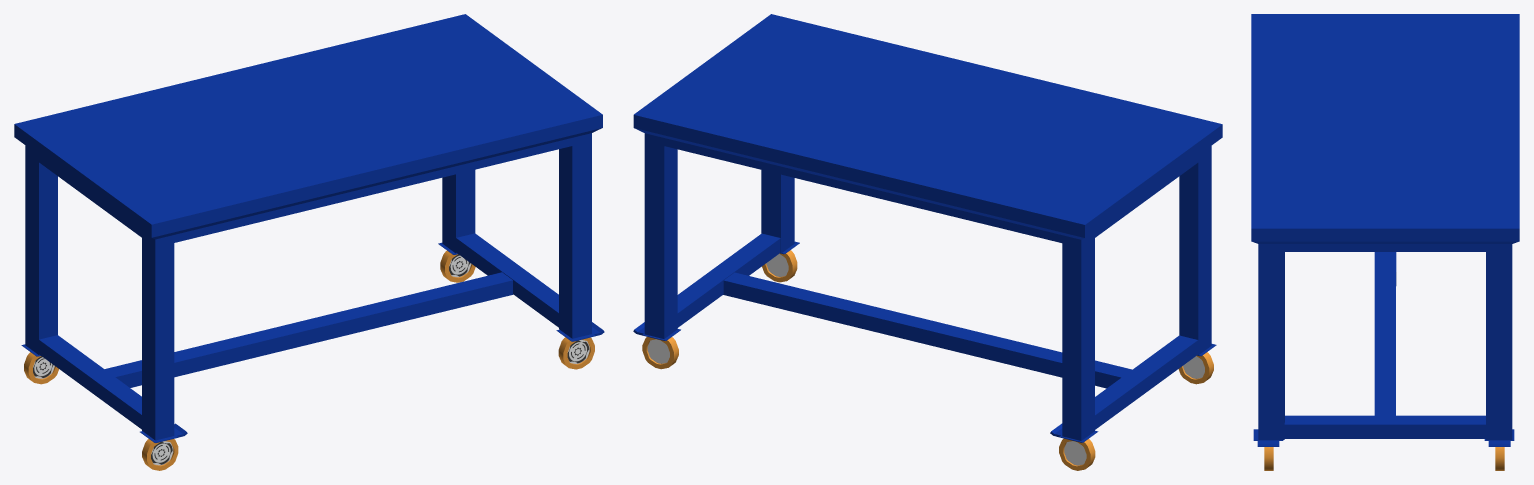
Rendered from Mesa laboratorio.fbx.
3 views of the same model, side by side, from view 1: azimuth 30°, elevation 25°; view 2: azimuth 150°, elevation 25°; view 3: azimuth 270°, elevation 25° (orthographic). The views are drawn at different scales.
Parts seen in each view (by area): view 1: Mesa, Barra Mitad, Lateral inferior Izq, Lateral Inferior Der, Cube.003, Cube, Cube.002, Cube.001; view 2: Mesa, Barra Mitad, Lateral inferior Izq, Lateral Inferior Der, Cube.001, Cube.002, Cube.003, Cube; view 3: Mesa, Lateral Inferior Der, Barra Mitad.
Boxes of the visible parts, left/top/right/bottom form: Mesa: left=14, top=14, right=602, bottom=440; Barra Mitad: left=105, top=272, right=512, bottom=387; Lateral inferior Izq: left=39, top=335, right=141, bottom=429; Lateral Inferior Der: left=456, top=233, right=558, bottom=327; Cube.003: left=558, top=337, right=594, bottom=369; Cube: left=142, top=439, right=178, bottom=470; Cube.002: left=440, top=250, right=475, bottom=282; Cube.001: left=24, top=352, right=58, bottom=384; Mesa: left=633, top=14, right=1222, bottom=440; Barra Mitad: left=723, top=272, right=1131, bottom=388; Lateral inferior Izq: left=1095, top=335, right=1198, bottom=429; Lateral Inferior Der: left=677, top=233, right=780, bottom=327; Cube.001: left=1059, top=438, right=1095, bottom=470; Cube.002: left=642, top=337, right=678, bottom=369; Cube.003: left=762, top=250, right=797, bottom=282; Cube: left=1178, top=352, right=1213, bottom=384; Mesa: left=1251, top=14, right=1519, bottom=439; Lateral Inferior Der: left=1284, top=415, right=1485, bottom=438; Barra Mitad: left=1374, top=252, right=1396, bottom=415.
Size of the model in its own units: 29.34 by 15.67 by 15.33.
3 materials, 3 textured.
